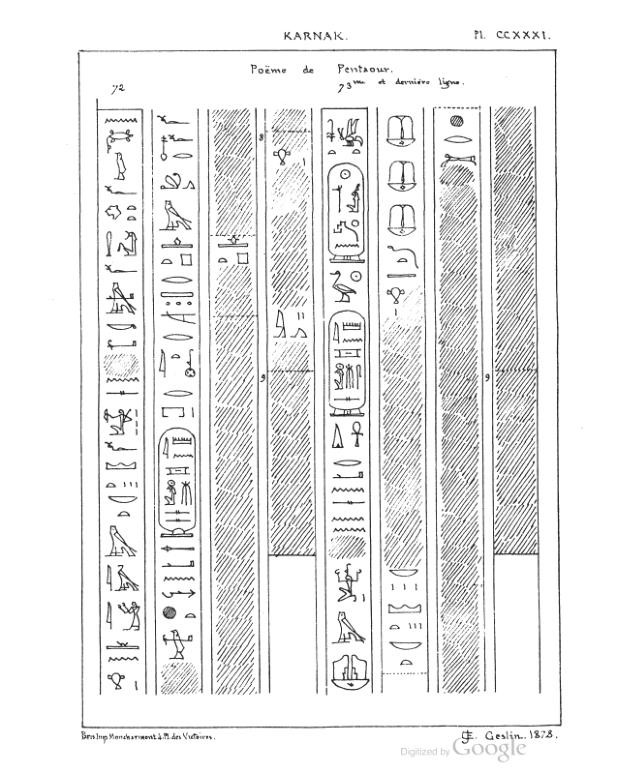circle: (155, 427, 198, 542), (323, 162, 368, 267), (326, 309, 366, 421)
